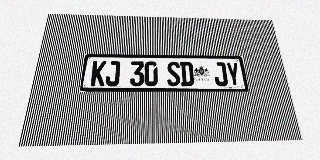0: (144, 61, 158, 86)
3: (130, 61, 144, 86)
D: (180, 62, 194, 86)
J: (105, 61, 120, 86), (213, 62, 228, 86)
K: (90, 61, 107, 86)
S: (167, 62, 181, 86)
Y: (225, 62, 241, 86)
